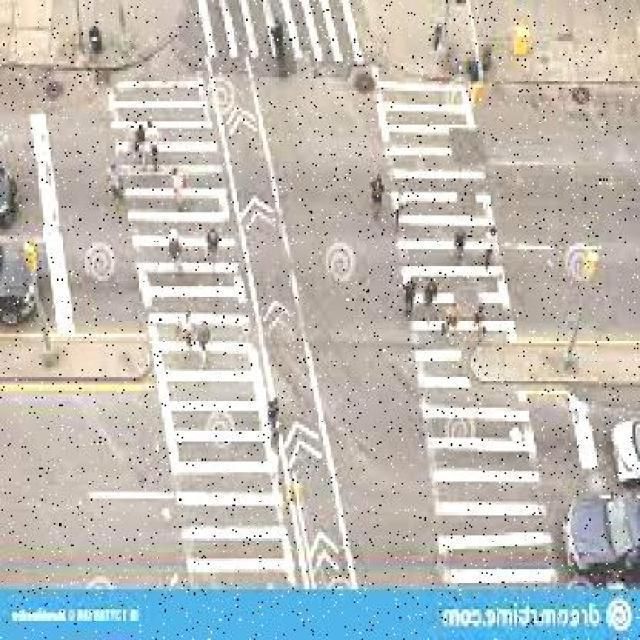Pedestrian crosswalk: (374, 68, 543, 584), (114, 74, 277, 586), (166, 0, 362, 68)
